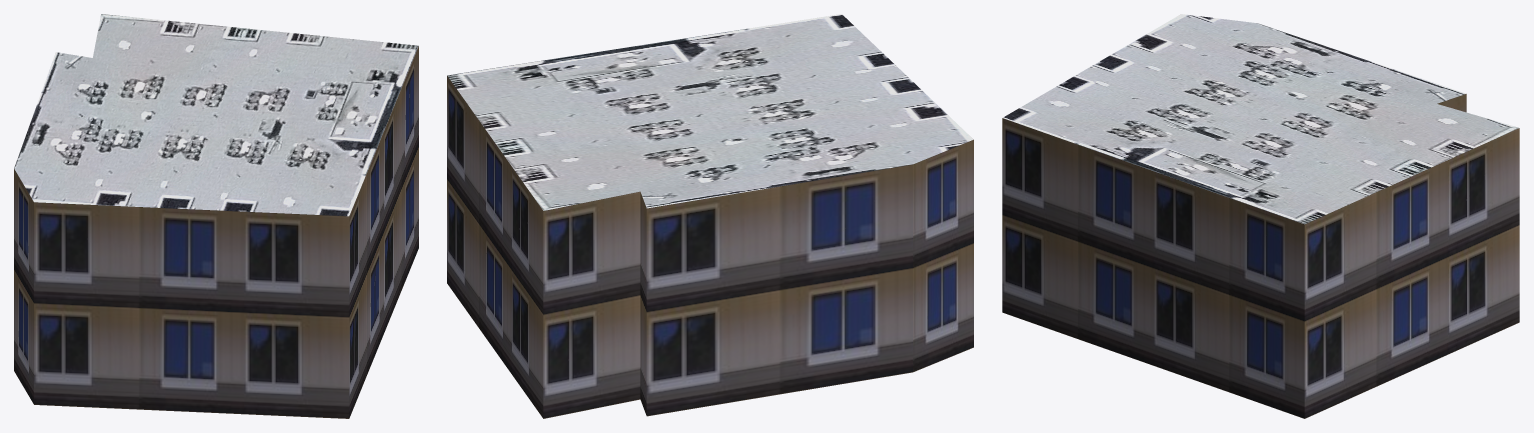
The model's file is ResTex__317.fbx.
3 renders of one model, left to right at view 1: azimuth 30°, elevation 25°; view 2: azimuth 150°, elevation 25°; view 3: azimuth 270°, elevation 25°, orthographic. The views are drawn at different scales.
Parts seen in each view (by area): view 1: CityEngineMaterial_5_m, CityEngineMaterial_m; view 2: CityEngineMaterial_5_m, CityEngineMaterial_m; view 3: CityEngineMaterial_5_m, CityEngineMaterial_m.
Part boxes in pixels (box(x1,y1,x2,y2)): CityEngineMaterial_5_m: box(14, 46, 418, 418); CityEngineMaterial_m: box(14, 14, 418, 216); CityEngineMaterial_5_m: box(447, 76, 973, 418); CityEngineMaterial_m: box(447, 14, 973, 210); CityEngineMaterial_5_m: box(1002, 94, 1519, 418); CityEngineMaterial_m: box(1003, 14, 1518, 224).
Bounding box in the file's own units: 13.92 × 6 × 14.46.
Materials: 2 (2 with a texture image).
